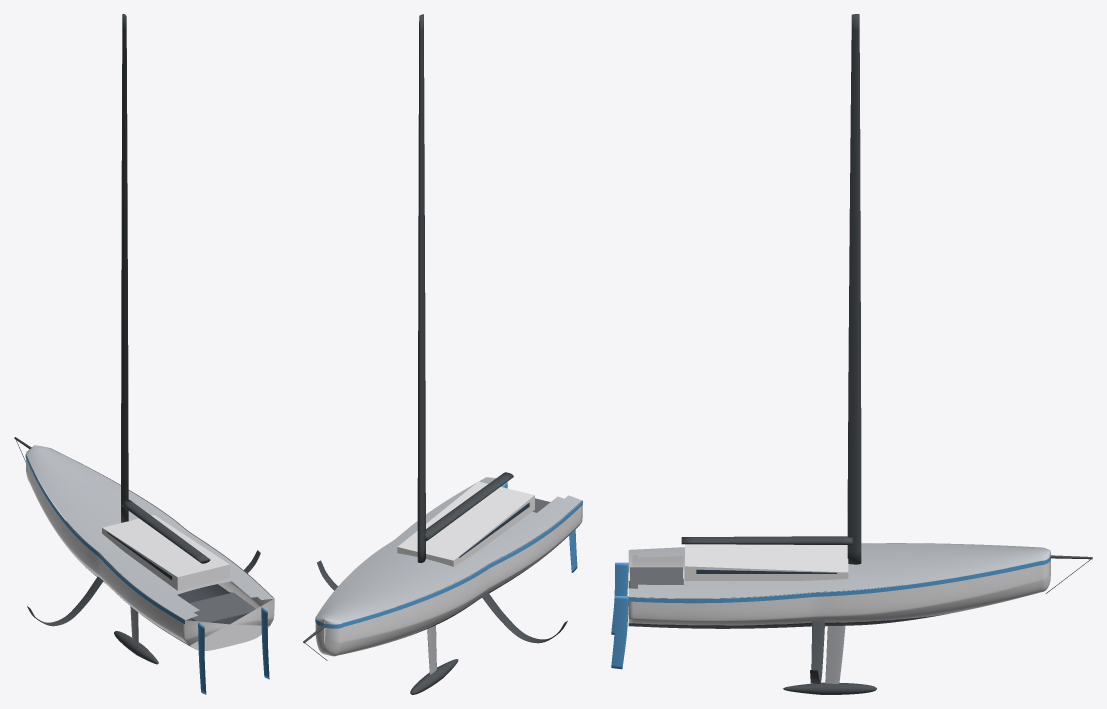
Rendered from imoca.glb.
3 renders of one model, left to right at view 1: azimuth 30°, elevation 25°; view 2: azimuth 150°, elevation 25°; view 3: azimuth 270°, elevation 25°, orthographic. The views are drawn at different scales.
Visible parts, largest first — view 1: pont, coque, rouf, pivot_mat, cockpit, pivot_bome, fond, bande, app_foil_babord, pivot_quille_bulbe, app_safran_babord, app_safran_tribord; view 2: pont, coque, rouf, pivot_mat, bande, pivot_bome, app_foil_babord, pivot_quille_bulbe; view 3: coque, pont, pivot_mat, rouf, bande, pivot_bome, fond, cockpit, pivot_quille, app_safran_tribord, pivot_quille_bulbe, app_foil_tribord.
Boxes of the visible parts, bbox=[...] form: pont: bbox=[26, 445, 273, 619]; coque: bbox=[26, 447, 274, 650]; rouf: bbox=[102, 515, 229, 590]; pivot_mat: bbox=[121, 14, 128, 522]; cockpit: bbox=[189, 592, 255, 622]; pivot_bome: bbox=[121, 499, 210, 563]; fond: bbox=[66, 521, 246, 646]; bande: bbox=[25, 454, 184, 623]; app_foil_babord: bbox=[27, 562, 113, 626]; pivot_quille_bulbe: bbox=[114, 631, 158, 664]; app_safran_babord: bbox=[198, 622, 206, 694]; app_safran_tribord: bbox=[261, 607, 269, 679]; pont: bbox=[315, 477, 581, 624]; coque: bbox=[315, 477, 582, 656]; rouf: bbox=[397, 481, 534, 566]; pivot_mat: bbox=[417, 14, 425, 562]; bande: bbox=[315, 501, 582, 628]; pivot_bome: bbox=[425, 472, 513, 541]; app_foil_babord: bbox=[467, 573, 567, 643]; pivot_quille_bulbe: bbox=[410, 659, 458, 694]; coque: bbox=[628, 543, 1050, 625]; pont: bbox=[628, 543, 1050, 598]; pivot_mat: bbox=[847, 14, 861, 564]; rouf: bbox=[685, 544, 848, 580]; bande: bbox=[628, 555, 1050, 603]; pivot_bome: bbox=[681, 536, 852, 545]; fond: bbox=[628, 578, 948, 628]; cockpit: bbox=[630, 567, 682, 598]; pivot_quille: bbox=[825, 625, 845, 683]; app_safran_tribord: bbox=[611, 596, 628, 669]; pivot_quille_bulbe: bbox=[783, 682, 876, 694]; app_foil_tribord: bbox=[810, 591, 824, 683].
Size of the model in its own units: 12.79 by 33.27 by 21.37.
